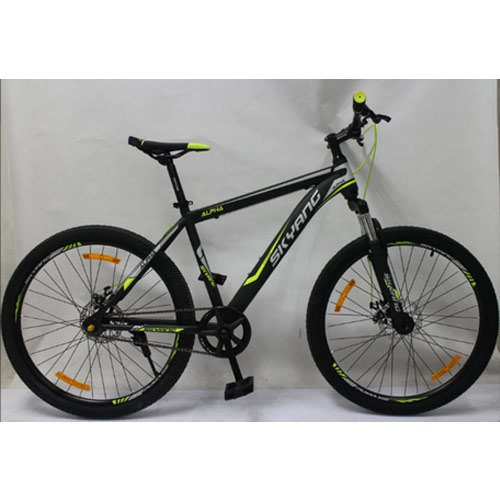bicycle: (6, 92, 500, 420)
